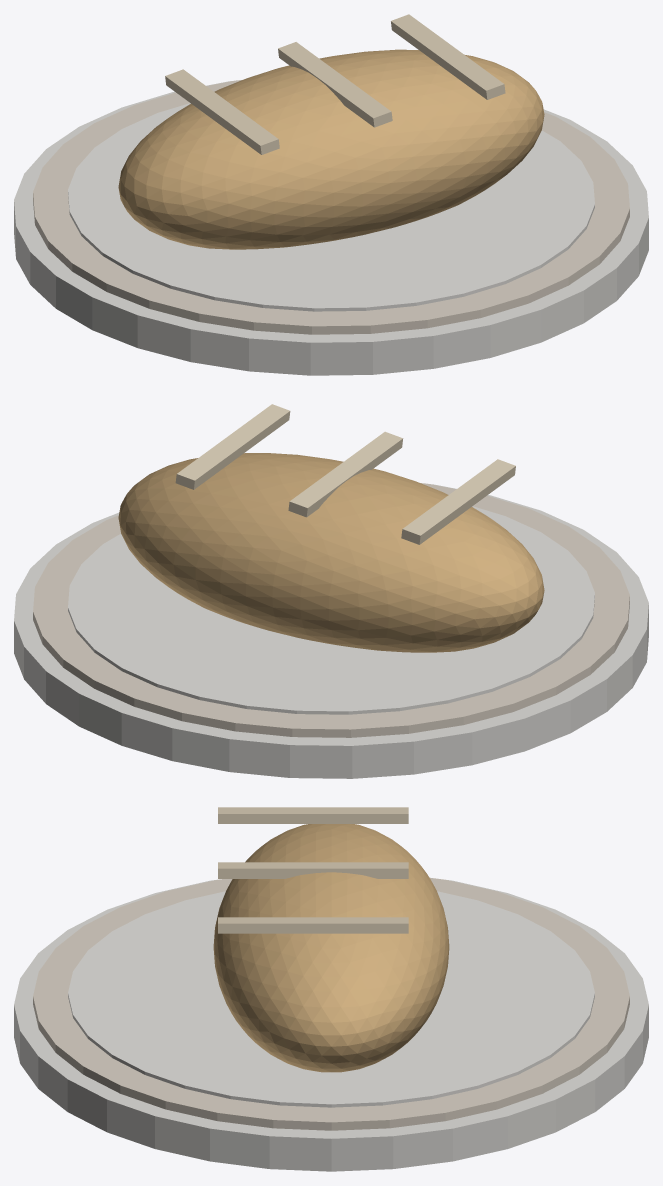
Rendered from banh_mi.glb.
The picture shows the model from 3 angles, top to bottom: view 1: azimuth 30°, elevation 25°; view 2: azimuth 150°, elevation 25°; view 3: azimuth 270°, elevation 25°; orthographic projection.
Visible parts, largest first — view 1: obj_0003, obj_0002, obj_0000, obj_0001, obj_0006, obj_0004, obj_0005; view 2: obj_0003, obj_0002, obj_0000, obj_0001, obj_0004, obj_0006, obj_0005; view 3: obj_0002, obj_0003, obj_0000, obj_0001, obj_0004, obj_0006, obj_0005.
Boxes of the visible parts, box(x1,y1,x2,y2) form: obj_0003: box(118, 49, 544, 249); obj_0002: box(68, 103, 594, 311); obj_0000: box(14, 81, 648, 375); obj_0001: box(33, 80, 629, 334); obj_0006: box(391, 14, 505, 99); obj_0004: box(165, 69, 279, 154); obj_0005: box(278, 42, 392, 127); obj_0003: box(118, 453, 544, 652); obj_0002: box(68, 506, 594, 714); obj_0000: box(14, 484, 648, 778); obj_0001: box(33, 483, 629, 737); obj_0004: box(401, 459, 515, 544); obj_0006: box(175, 404, 290, 489); obj_0005: box(288, 431, 403, 517); obj_0002: box(68, 891, 594, 1107); obj_0003: box(213, 824, 449, 1072); obj_0000: box(14, 880, 648, 1171); obj_0001: box(33, 877, 629, 1130); obj_0004: box(218, 807, 408, 823); obj_0006: box(218, 917, 408, 933); obj_0005: box(218, 862, 408, 878).
Size of the model in its own units: 2.1 by 0.6216 by 2.1.
